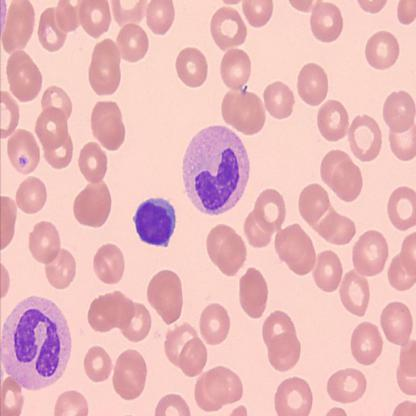Band Neutrophil: (0, 291, 75, 392), (180, 121, 252, 218)
